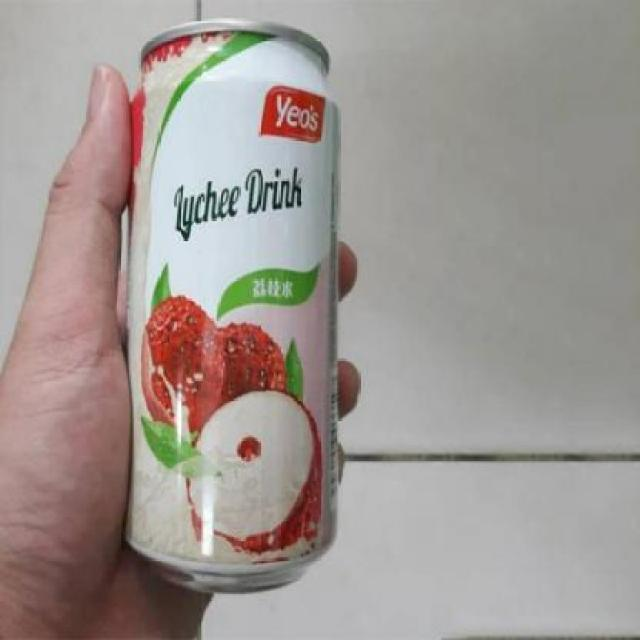Metal: (124, 19, 341, 597)
